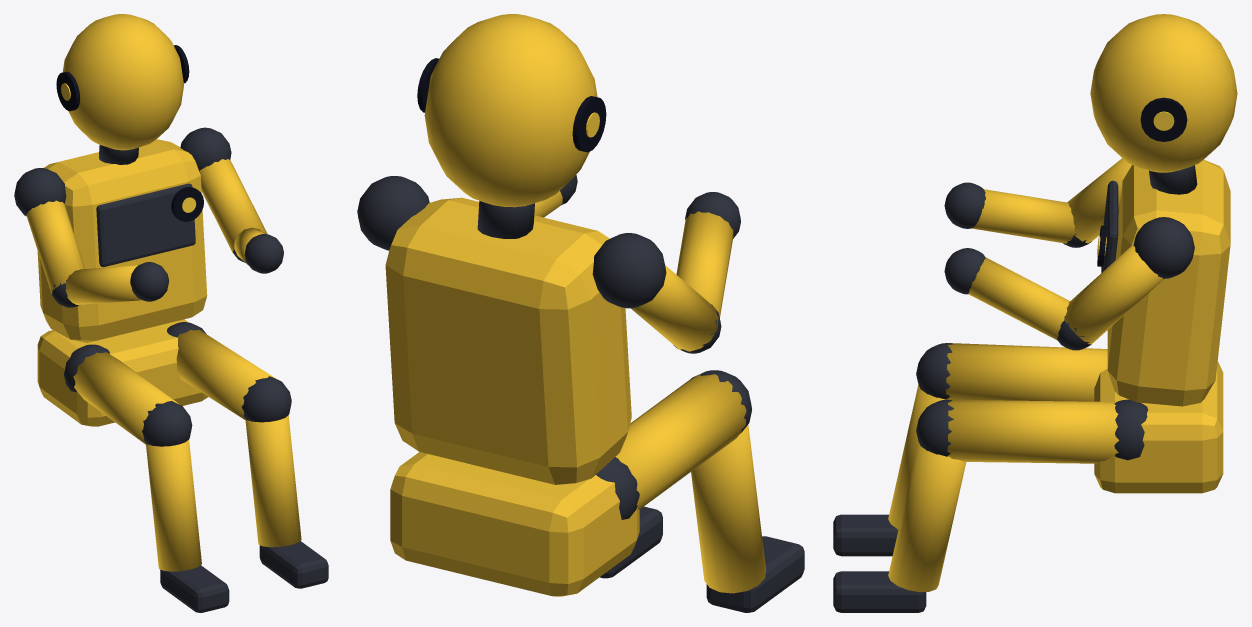
File: crash_dummy.glb
3 renders of one model, left to right at view 1: azimuth 30°, elevation 25°; view 2: azimuth 150°, elevation 25°; view 3: azimuth 270°, elevation 25°, orthographic. The views are drawn at different scales.
Visible parts, largest first — view 1: torso, head, pelvis, shin-1, shin1, chestPlate, thigh-1, thigh1, upper-1, upper1, fore-1, foot-1 (+12 smaller); view 2: torso, pelvis, head, thigh-1, shin-1, shoulder-1, fore-1, upper-1, shoulder1, foot-1, neck, foot1 (+4 smaller); view 3: torso, head, thigh1, pelvis, thigh-1, shin1, upper1, fore1, fore-1, foot1, shoulder1, foot-1 (+11 smaller).
Part boxes in pixels (<box>): torso: <box>37,139,207,342</box>; head: <box>62,14,183,150</box>; pelvis: <box>37,319,208,426</box>; shin-1: <box>146,440,201,571</box>; shin1: <box>245,415,301,547</box>; chestPlate: <box>96,183,195,267</box>; thigh-1: <box>73,352,183,444</box>; thigh1: <box>176,329,283,420</box>; upper-1: <box>26,200,84,293</box>; upper1: <box>199,159,267,252</box>; fore-1: <box>65,265,142,304</box>; foot-1: <box>160,565,229,612</box>; torso: <box>385,197,631,484</box>; pelvis: <box>390,452,639,596</box>; head: <box>424,14,597,207</box>; thigh-1: <box>615,373,746,509</box>; shin-1: <box>691,424,765,593</box>; shoulder-1: <box>592,233,666,308</box>; fore-1: <box>676,211,733,317</box>; upper-1: <box>631,265,718,351</box>; shoulder1: <box>357,176,429,250</box>; foot-1: <box>706,536,804,612</box>; neck: <box>477,201,534,238</box>; foot1: <box>600,506,662,578</box>; torso: <box>1107,159,1230,406</box>; head: <box>1090,14,1237,172</box>; thigh1: <box>947,399,1118,463</box>; pelvis: <box>1094,361,1223,493</box>; thigh-1: <box>946,343,1107,401</box>; shin1: <box>888,441,966,591</box>; upper1: <box>1064,244,1163,344</box>; fore1: <box>968,257,1069,340</box>; fore-1: <box>971,189,1074,243</box>; foot1: <box>833,571,926,612</box>; shoulder1: <box>1133,217,1194,278</box>; foot-1: <box>833,514,898,556</box>.
Bounding box in the file's own units: 1.12 × 2.39 × 1.57.
